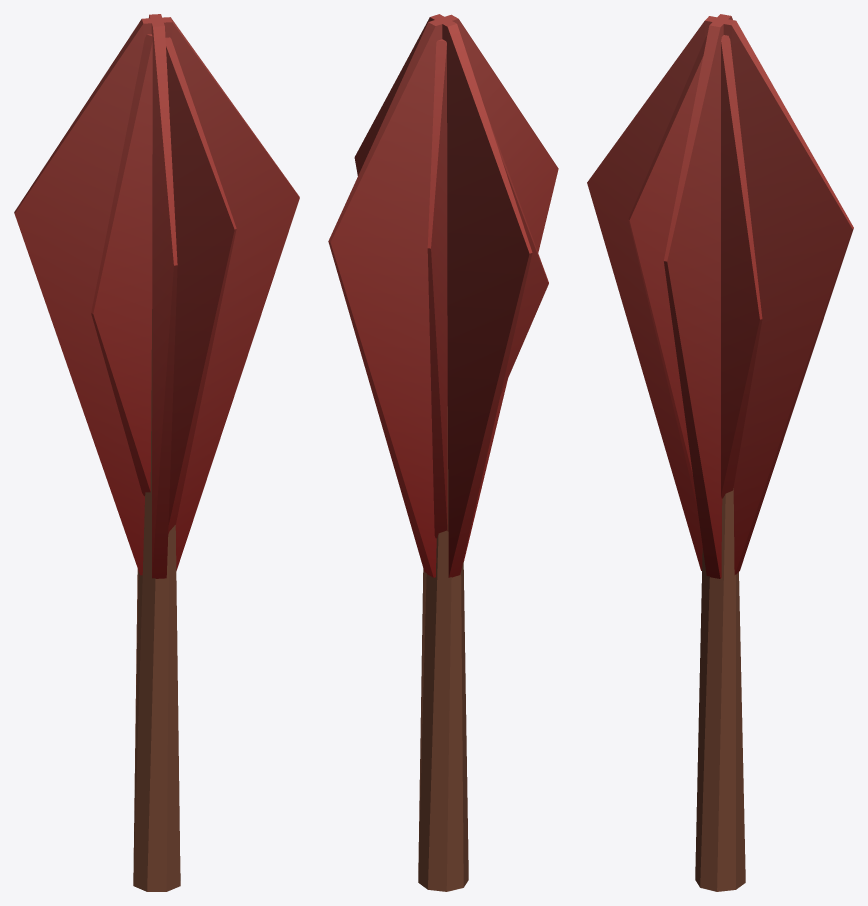
Rendered from Tree_31_gradient_red_vc.fbx.
3 renders of one model, left to right at view 1: azimuth 30°, elevation 25°; view 2: azimuth 150°, elevation 25°; view 3: azimuth 270°, elevation 25°, orthographic.
Visible parts, largest first — view 1: Tree_31_gradient_red_vc; view 2: Tree_31_gradient_red_vc; view 3: Tree_31_gradient_red_vc.
Boxes of the visible parts, x1=… form: Tree_31_gradient_red_vc: x1=14, y1=14, x2=299, y2=891; Tree_31_gradient_red_vc: x1=328, y1=14, x2=558, y2=891; Tree_31_gradient_red_vc: x1=587, y1=14, x2=853, y2=891.
Bounding box in the file's own units: 84.61 × 301 × 84.61.
